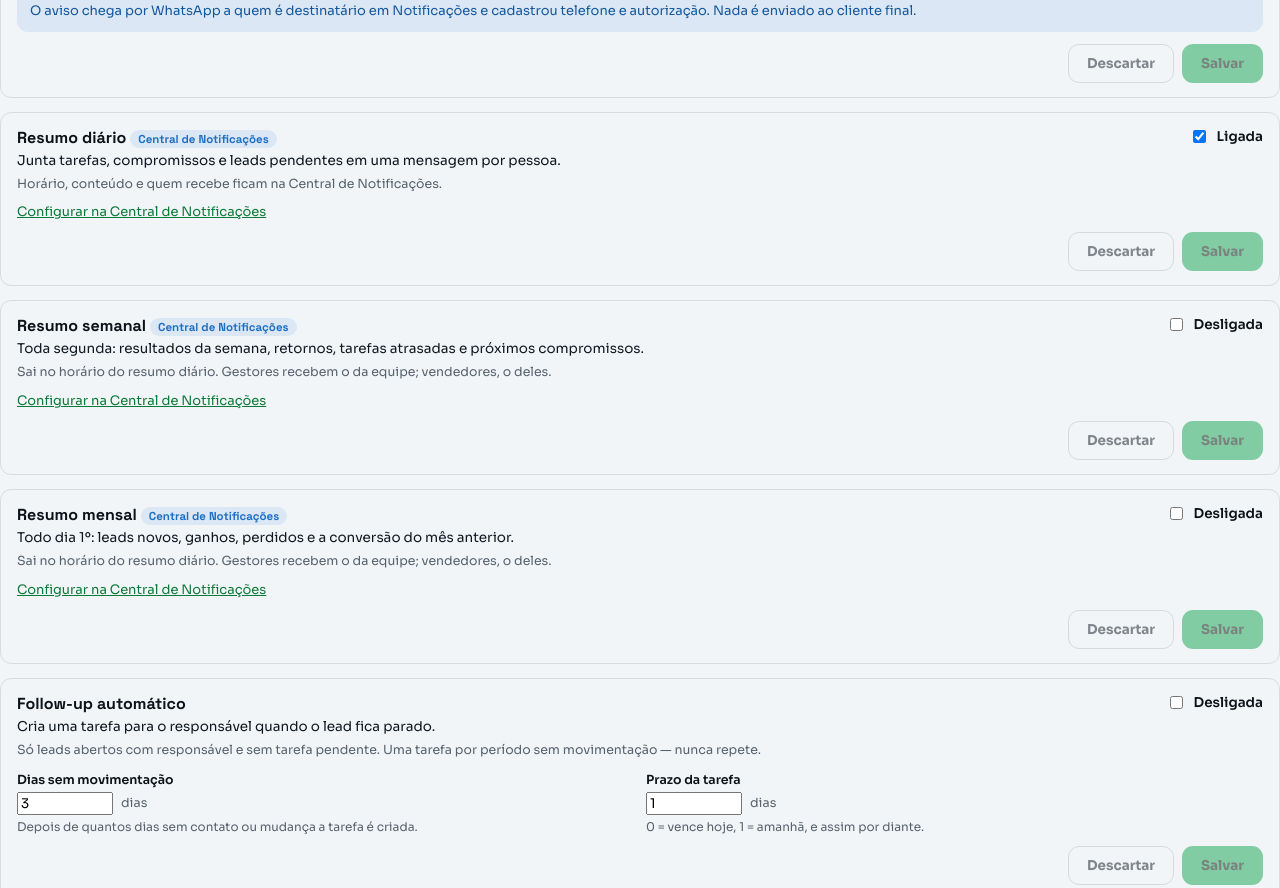
Test: AutomationsPage › admin liga o follow-up, ajusta os dias e salva só o que mudou, com a versão lida
(page scrolled)
Expected: the heading "Follow-up automático" is shown, [17,693,186,714]
Click the checkbox named "Ativar Follow-up automático" at (1176, 702), box [1170,696,1183,709]
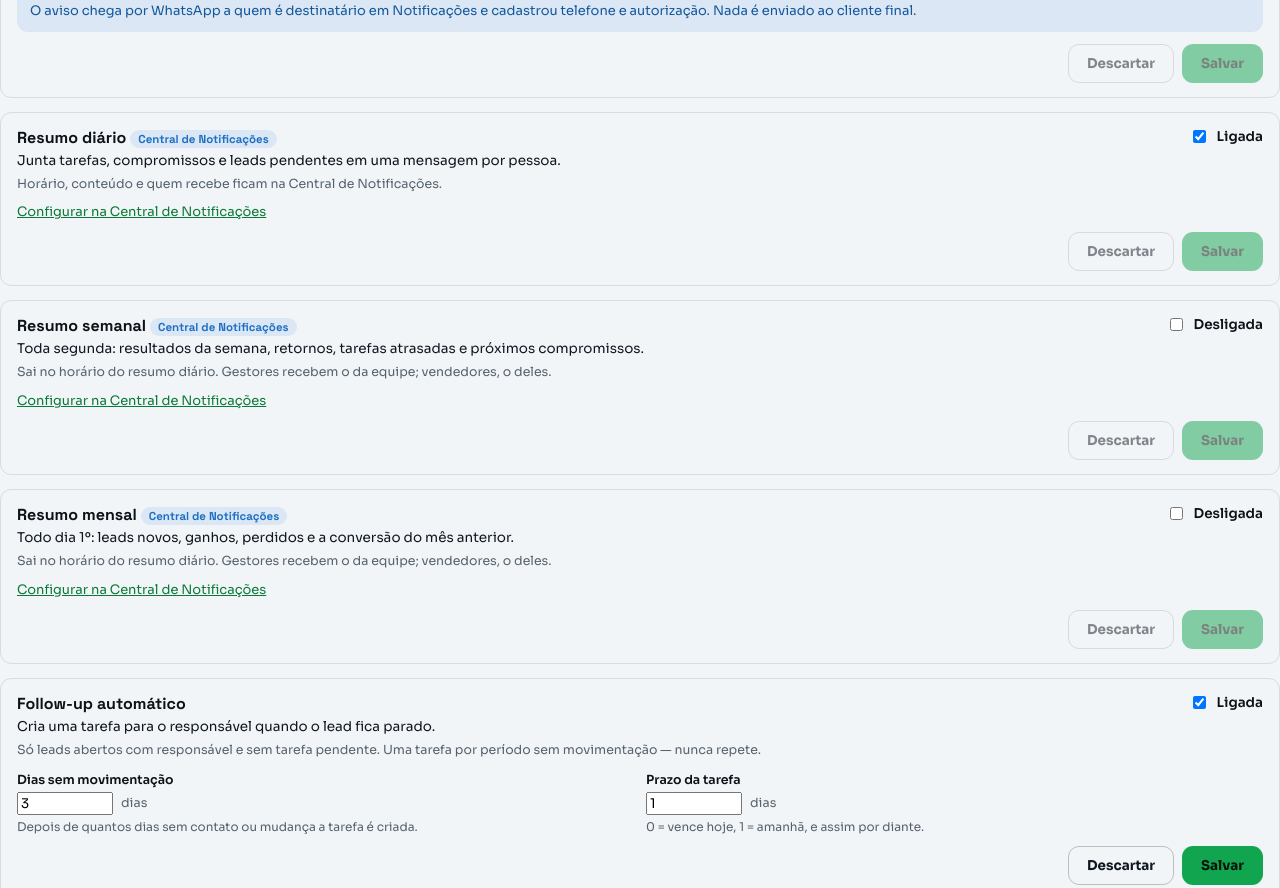
Replace the text in the number field labelled "Dias sem movimentação" with "7" at (65, 803), box [17,792,113,814]
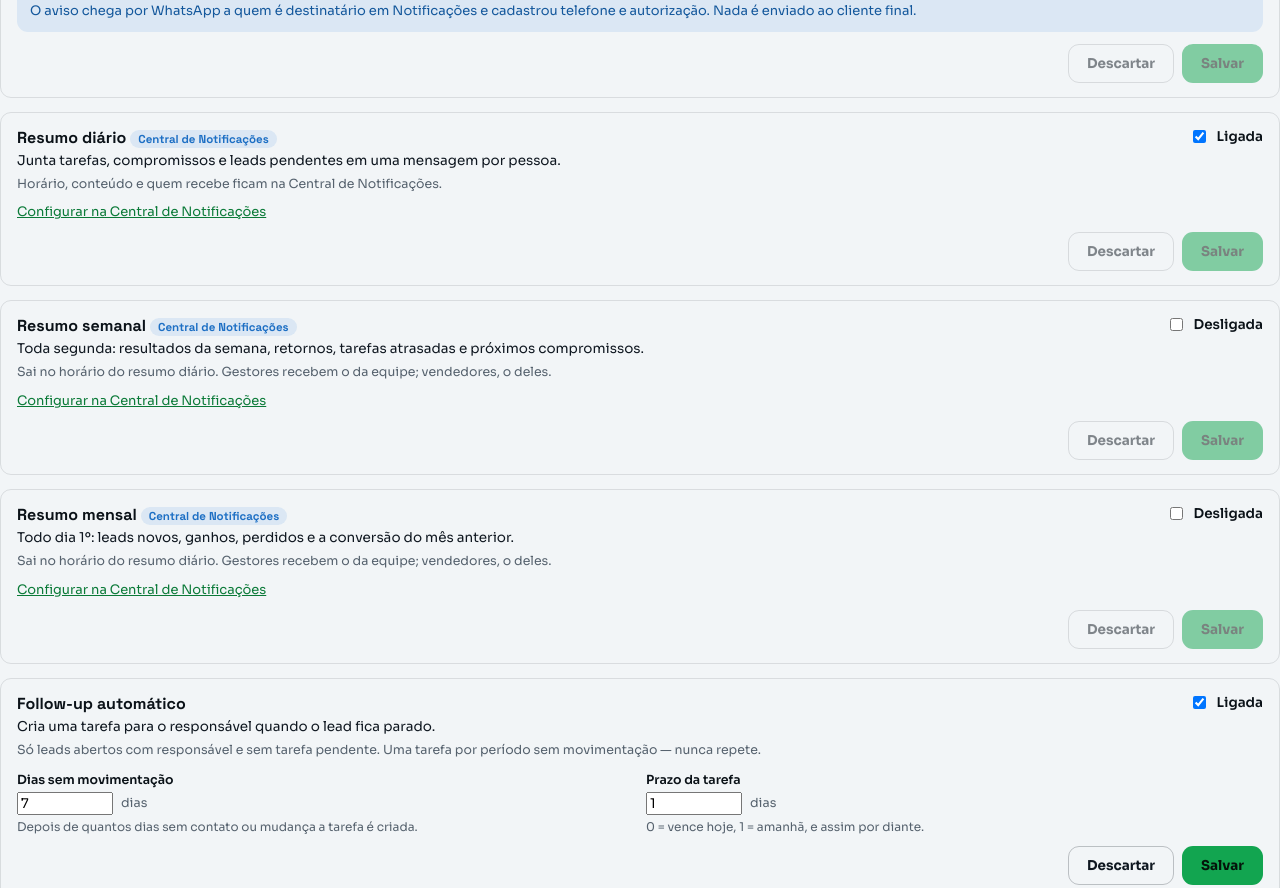
Click the 5th button "Salvar" at (1223, 865), box [1182,846,1263,884]
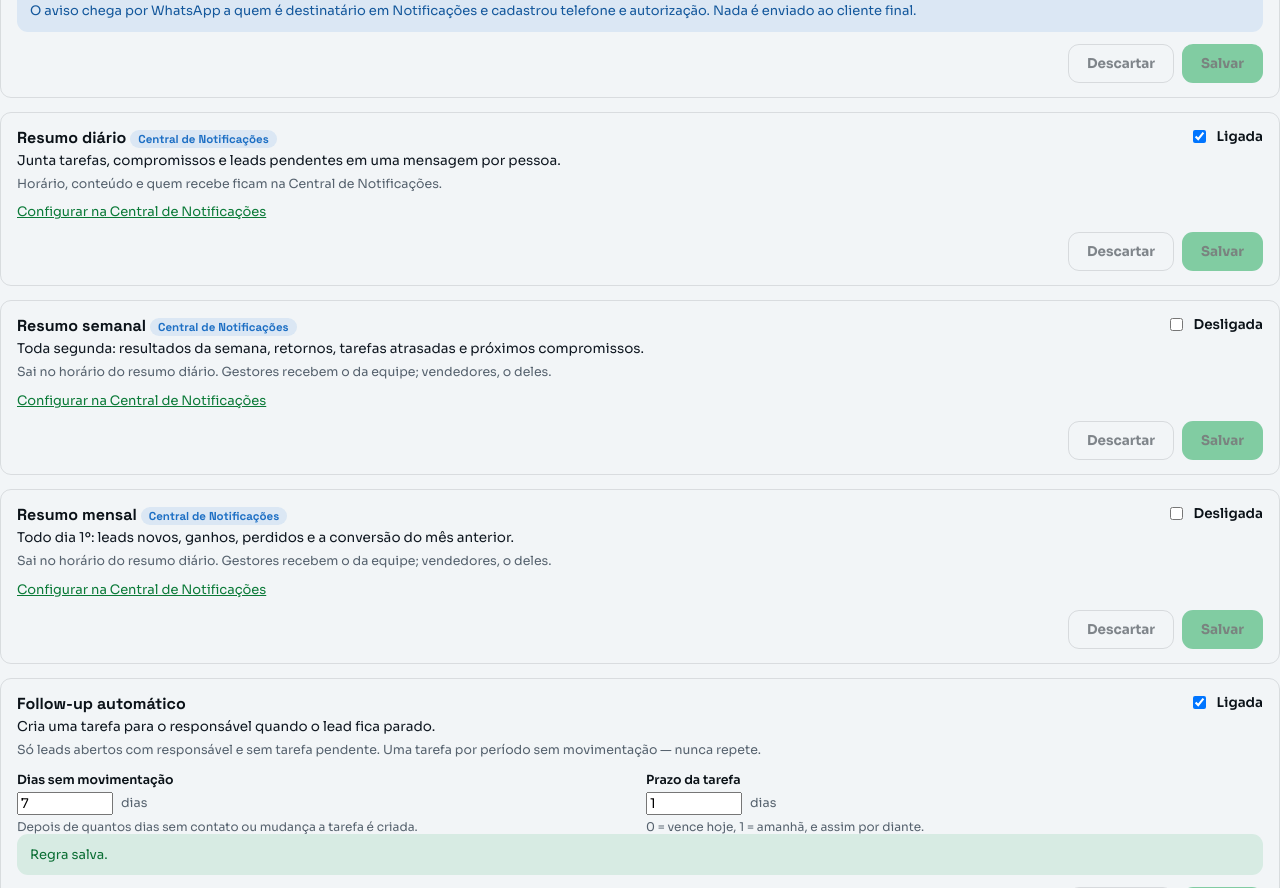
Expected: the text "Regra salva." is shown, [17,834,1263,875]
